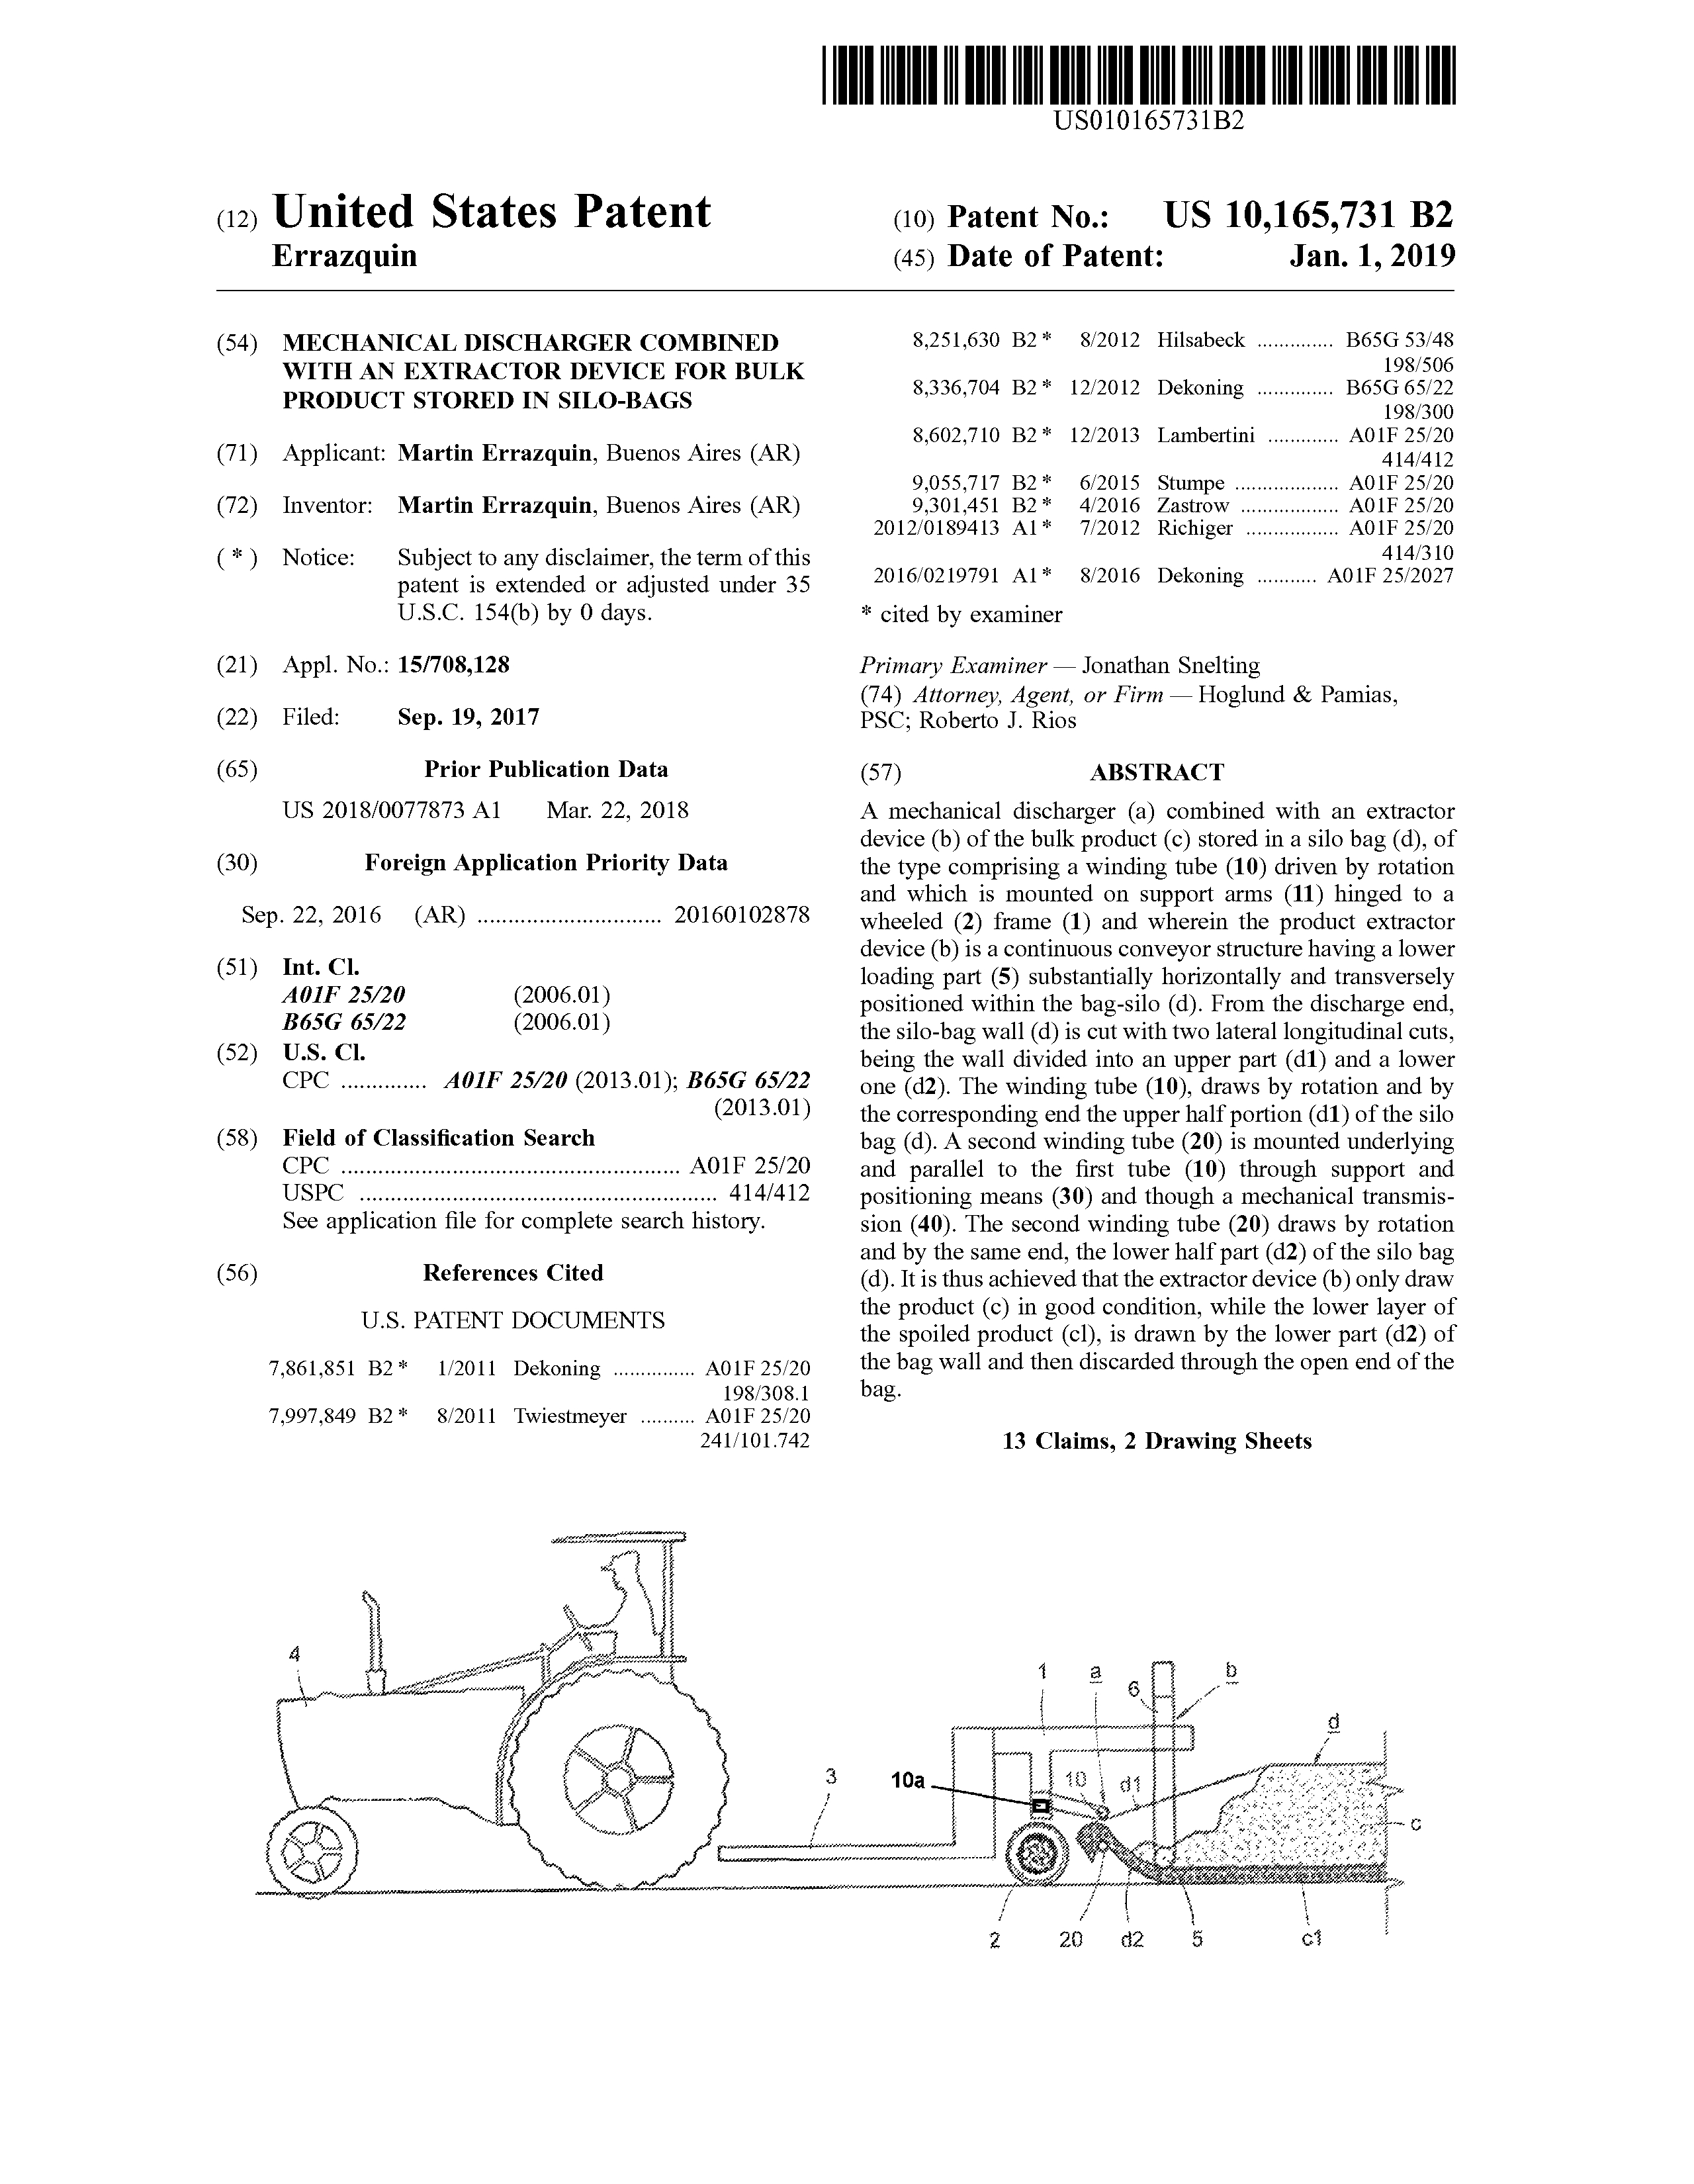patent image: (221, 1499, 1495, 2028)
